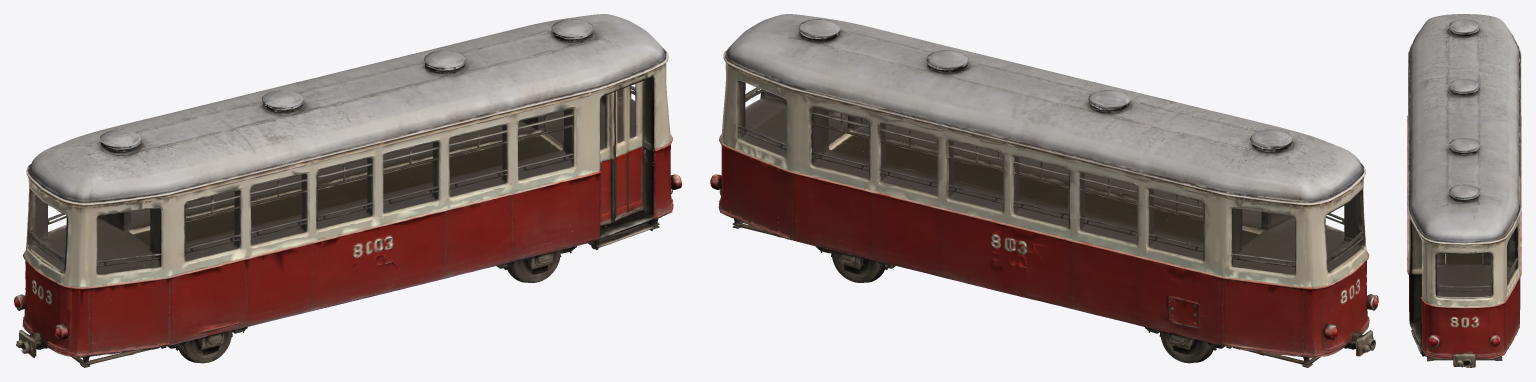
The model's file is lowa_eb54.glb.
3 views of the same model, side by side, from view 1: azimuth 30°, elevation 25°; view 2: azimuth 150°, elevation 25°; view 3: azimuth 270°, elevation 25° (orthographic). The views are drawn at different scales.
Visible parts, largest first — view 1: LOWA_EB54; view 2: LOWA_EB54; view 3: LOWA_EB54.
Part boxes in pixels (left/top/right/bottom): LOWA_EB54: left=14, top=14, right=681, bottom=367; LOWA_EB54: left=710, top=14, right=1378, bottom=367; LOWA_EB54: left=1407, top=14, right=1521, bottom=367.
Size of the model in its own units: 10.8 by 3.57 by 2.2.
Materials: 1 (1 with a texture image).
